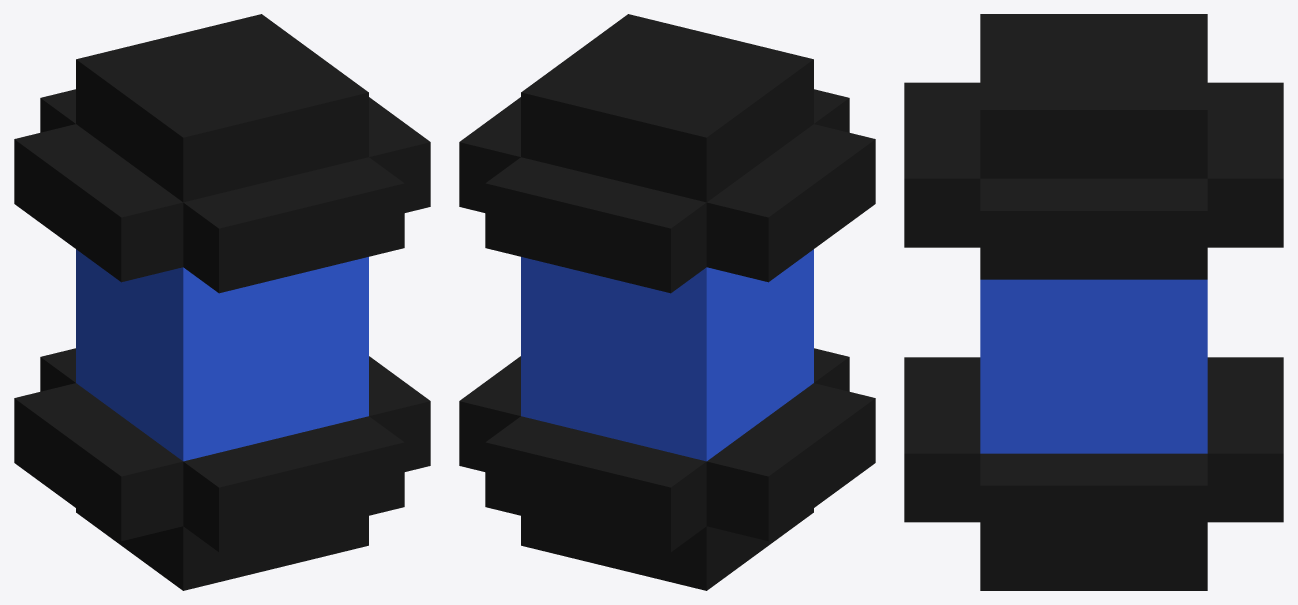
Rendered from bottle2.obj.
3 renders of one model, left to right at view 1: azimuth 30°, elevation 25°; view 2: azimuth 150°, elevation 25°; view 3: azimuth 270°, elevation 25°, orthographic. The views are drawn at different scales.
Bounding box in the file's own units: 0.5 × 0.7 × 0.5.
1 material, 1 textured.
